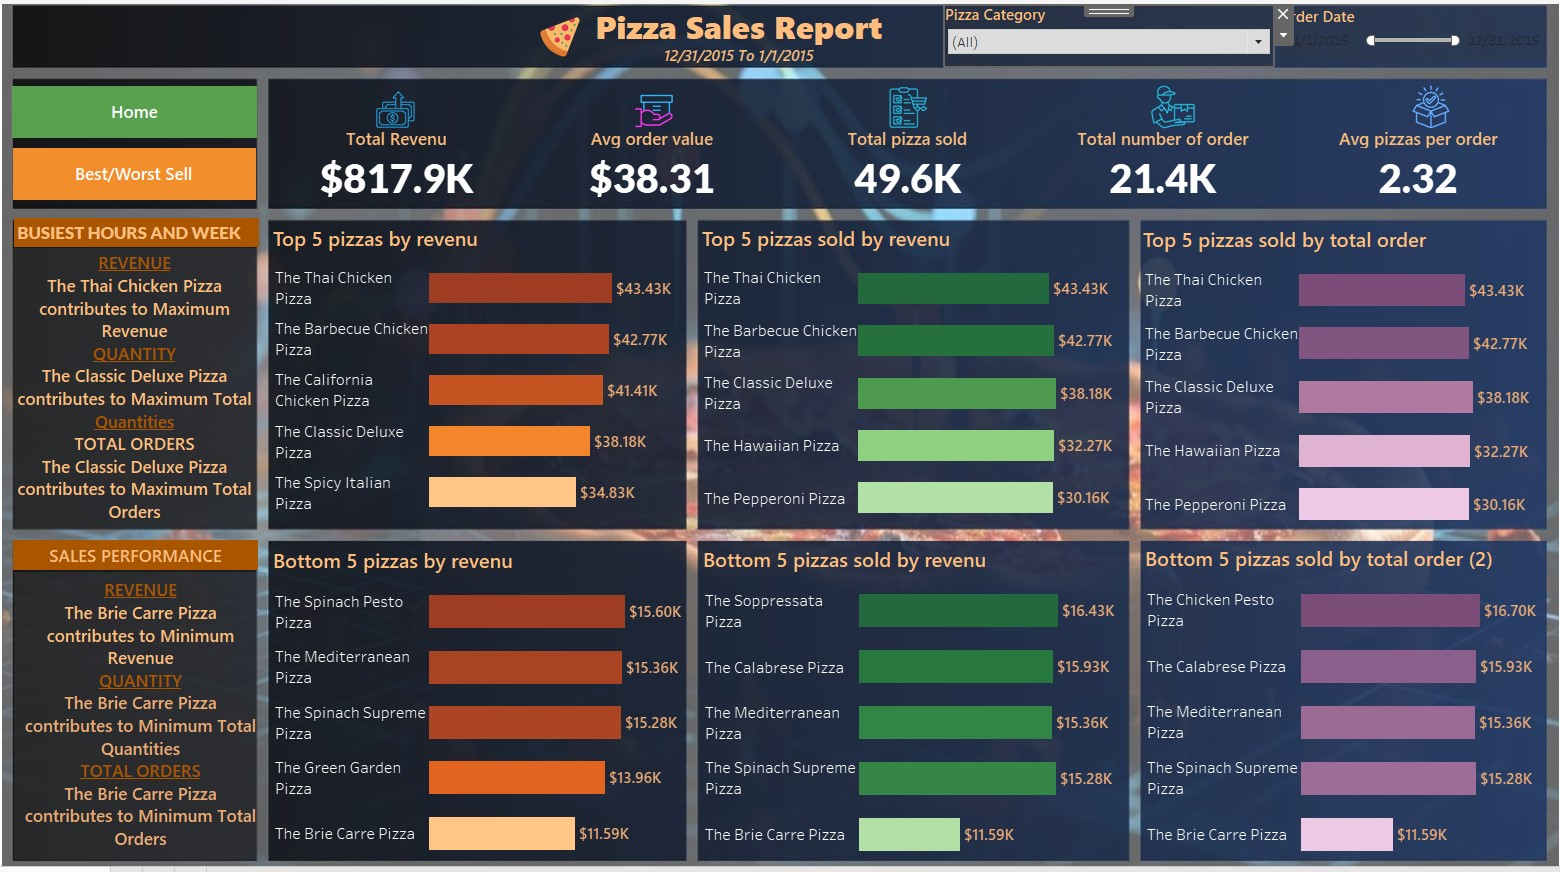

The dashboard page shown, as its layout file describes it:
{"tool":"tableau","page":{"name":"Best/worest sell","canvas":[1600,900],"ordinal":0},"visuals":[{"type":"image","param":"C:/Users/Yonatan/Downloads/Pizza Tableau 2.jpg","box":[8,8,1584,884]},{"type":"filter","title":"Date Range","param":"[federated.1r2u2uz0ve9ae711u20g30o8jtuh].[none:pizza_category:nk]","box":[964,20,328,62]},{"type":"text","box":[611,22,302,39]},{"type":"filter","title":"Date Range","param":"[federated.1r2u2uz0ve9ae711u20g30o8jtuh].[none:order_date:qk]","box":[1298,22,268,57]},{"type":"image","param":"D:/Data Analyis/3/Pizza Sales Images/pizza-slice.png","box":[546,32,65,41]},{"type":"worksheet","title":"Date Range","mark":"Automatic","box":[670,56,175,29]},{"type":"image","param":"D:/Data Analyis/3/Pizza Sales Images/delivery-man.png","box":[1143,100,97,45]},{"type":"image","param":"D:/Data Analyis/3/Pizza Sales Images/order (1).png","box":[1398,101,104,43]},{"type":"dashboard-object","box":[31,102,245,52]},{"type":"image","param":"D:/Data Analyis/3/Pizza Sales Images/order-delivery.png","box":[861,102,133,42]},{"type":"image","param":"D:/Data Analyis/3/Pizza Sales Images/profit-growth.png","box":[378,103,72,44]},{"type":"image","param":"D:/Data Analyis/3/Pizza Sales Images/shipping-box.png","box":[627,105,91,43]},{"type":"worksheet","title":"KPI Banner","mark":"Automatic","box":[288,144,1277,80]},{"type":"dashboard-object","box":[32,164,243,52]},{"type":"text","box":[33,234,245,29]},{"type":"worksheet","title":"Top 5 pizzas by revenu","mark":"Automatic","rows":["pizza_name"],"cols":["Calculation_1035546458913628160"],"box":[288,236,416,298]},{"type":"worksheet","title":"Top 5 pizzas sold by revenu","mark":"Automatic","rows":["pizza_name"],"cols":["Calculation_1035546458915016707"],"box":[717,236,432,304]},{"type":"worksheet","title":"Top 5 pizzas sold by total order","mark":"Automatic","rows":["pizza_name"],"cols":["Calculation_1035546458913816577"],"box":[1158,237,407,310]},{"type":"text","box":[31,264,245,282]},{"type":"text","box":[32,556,245,30]},{"type":"worksheet","title":"Bottom 5 pizzas sold by total order (2)","mark":"Automatic","rows":["pizza_name"],"cols":["Calculation_1035546458913816577"],"box":[1160,556,408,322]},{"type":"worksheet","title":"Bottom 5 pizzas sold by revenu","mark":"Automatic","rows":["pizza_name"],"cols":["Calculation_1035546458915016707"],"box":[718,557,430,321]},{"type":"worksheet","title":"Bottom 5 pizzas by revenu","mark":"Automatic","rows":["pizza_name"],"cols":["Calculation_1035546458913628160"],"box":[288,558,427,319]},{"type":"text","box":[33,588,253,288]}]}

Visuals, with their boxes in screenshot pixels (x1, y1, x2, y2), scaled from the page's 1600x900 canvas onto the 1560x872 screenshot:
image: box(8, 8, 1552, 864)
"Date Range" filter: box(940, 19, 1260, 79)
text: box(596, 21, 890, 59)
"Date Range" filter: box(1266, 21, 1527, 77)
image: box(532, 31, 596, 71)
"Date Range" worksheet: box(653, 54, 824, 82)
image: box(1114, 97, 1209, 140)
image: box(1363, 98, 1464, 140)
dashboard-object: box(30, 99, 269, 149)
image: box(839, 99, 969, 140)
image: box(369, 100, 439, 142)
image: box(611, 102, 700, 143)
"KPI Banner" worksheet: box(281, 140, 1526, 217)
dashboard-object: box(31, 159, 268, 209)
text: box(32, 227, 271, 255)
"Top 5 pizzas by revenu" worksheet: box(281, 229, 686, 517)
"Top 5 pizzas sold by revenu" worksheet: box(699, 229, 1120, 523)
"Top 5 pizzas sold by total order" worksheet: box(1129, 230, 1526, 530)
text: box(30, 256, 269, 529)
text: box(31, 539, 270, 568)
"Bottom 5 pizzas sold by total order (2)" worksheet: box(1131, 539, 1529, 851)
"Bottom 5 pizzas sold by revenu" worksheet: box(700, 540, 1119, 851)
"Bottom 5 pizzas by revenu" worksheet: box(281, 541, 697, 850)
text: box(32, 570, 279, 849)
